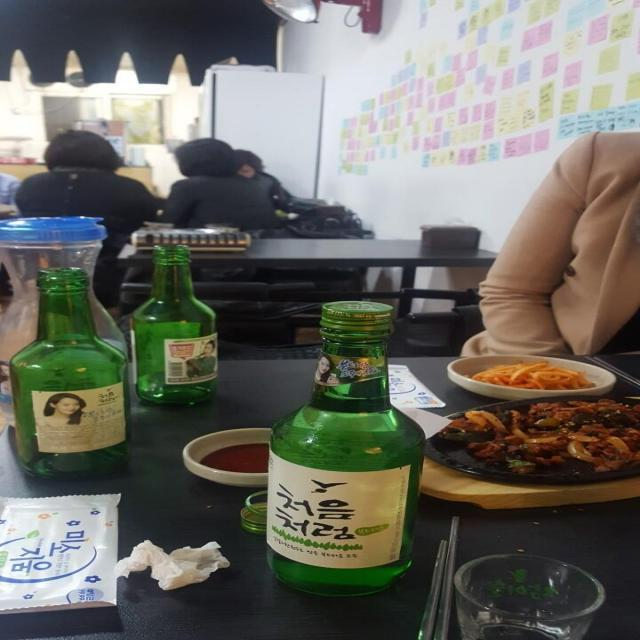soju-bottle: (264, 301, 426, 592), (10, 267, 129, 481), (130, 244, 218, 408)
